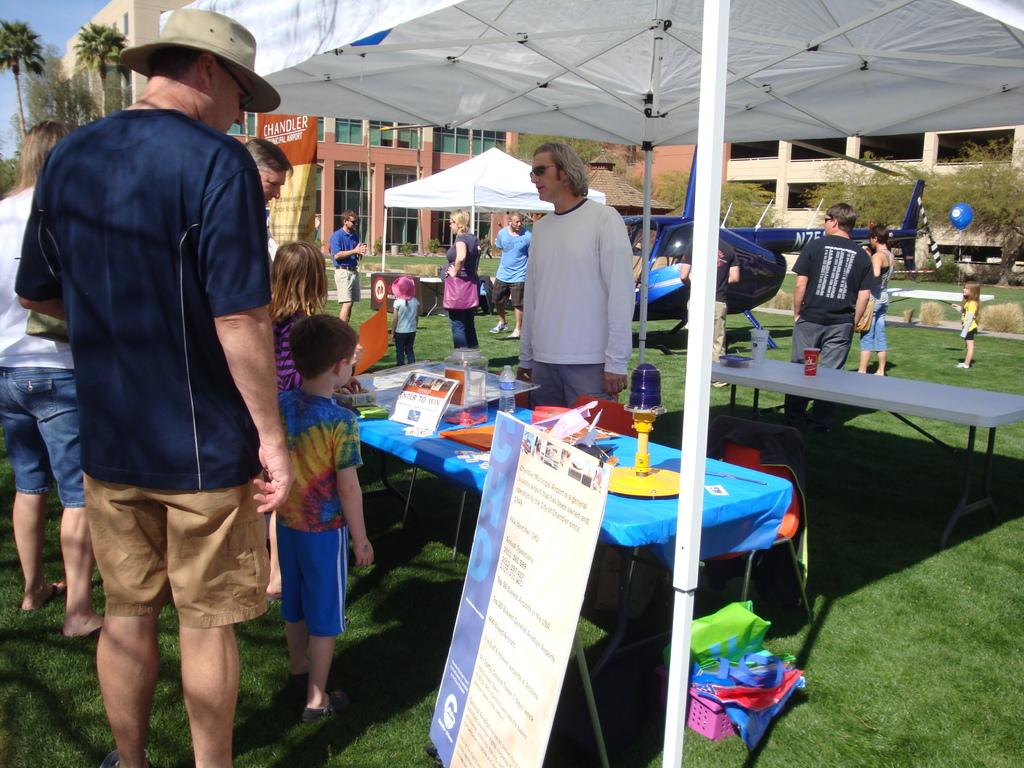Hat: (117, 4, 281, 115)
